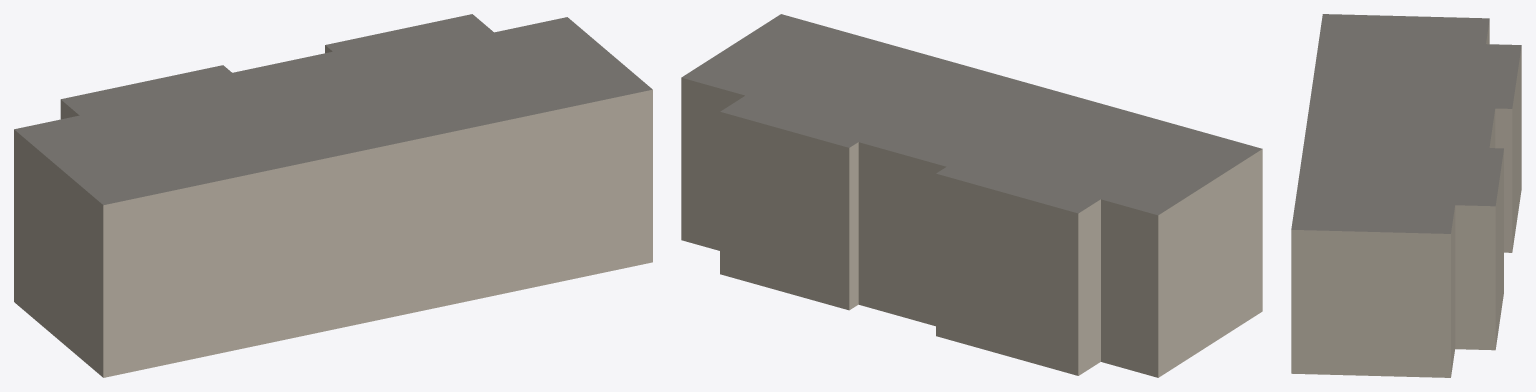
3 renders of one model, left to right at view 1: azimuth 30°, elevation 25°; view 2: azimuth 150°, elevation 25°; view 3: azimuth 270°, elevation 25°, orthographic. The views are drawn at different scales.
Visible parts, largest first — view 1: HP-w734461625; view 2: HP-w734461625; view 3: HP-w734461625.
Part boxes in pixels (<box>): HP-w734461625: <box>14,14,652,377</box>; HP-w734461625: <box>681,14,1262,377</box>; HP-w734461625: <box>1291,14,1521,377</box>.
Size of the model in its own units: 58.99 by 18 by 26.11.
